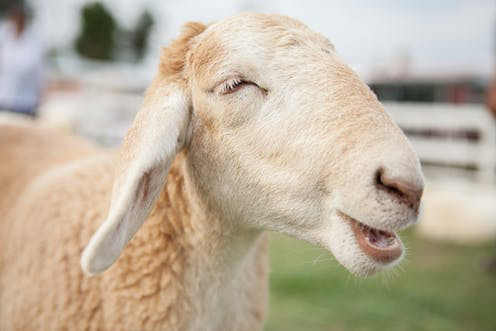koyun: (155, 9, 427, 278)
